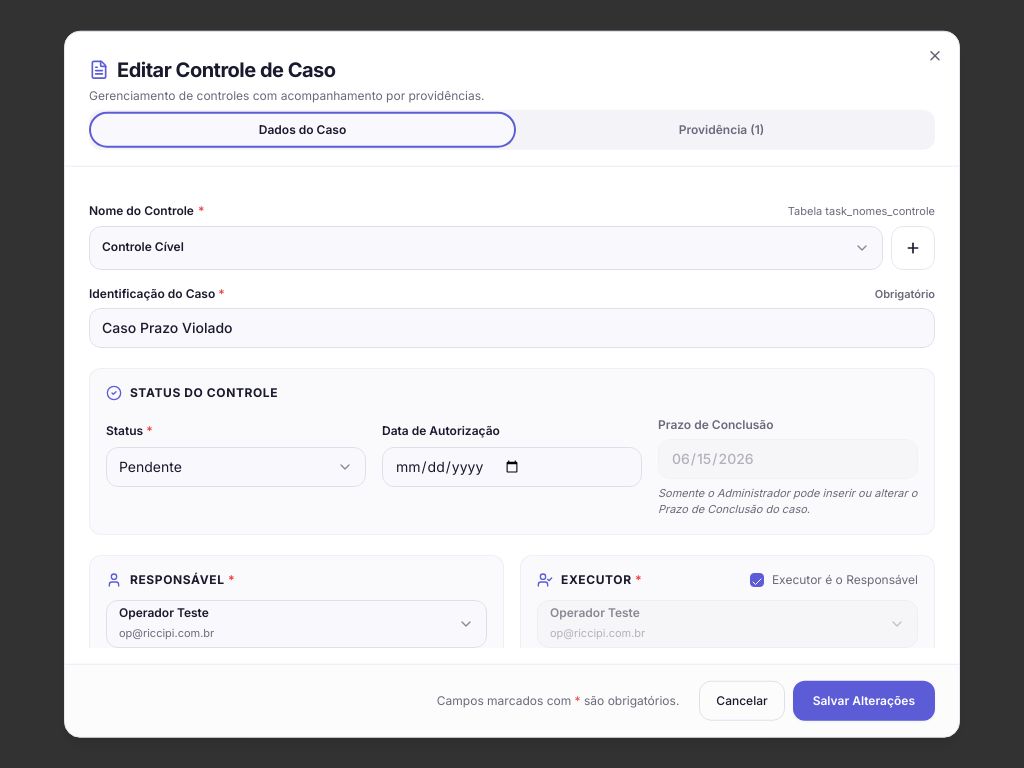
Test: ControleModal - Fluxo de Solicitação de Adiamento › interrompe salvamento e exibe texto exato quando providência tem data maior que o caso salvo
expect the field showing "Caso Prazo Violado" is shown: met, box [89,307,935,347]
Press the mouse on the tab "Providência (1)" at point(722, 130), box [512,116,931,144]
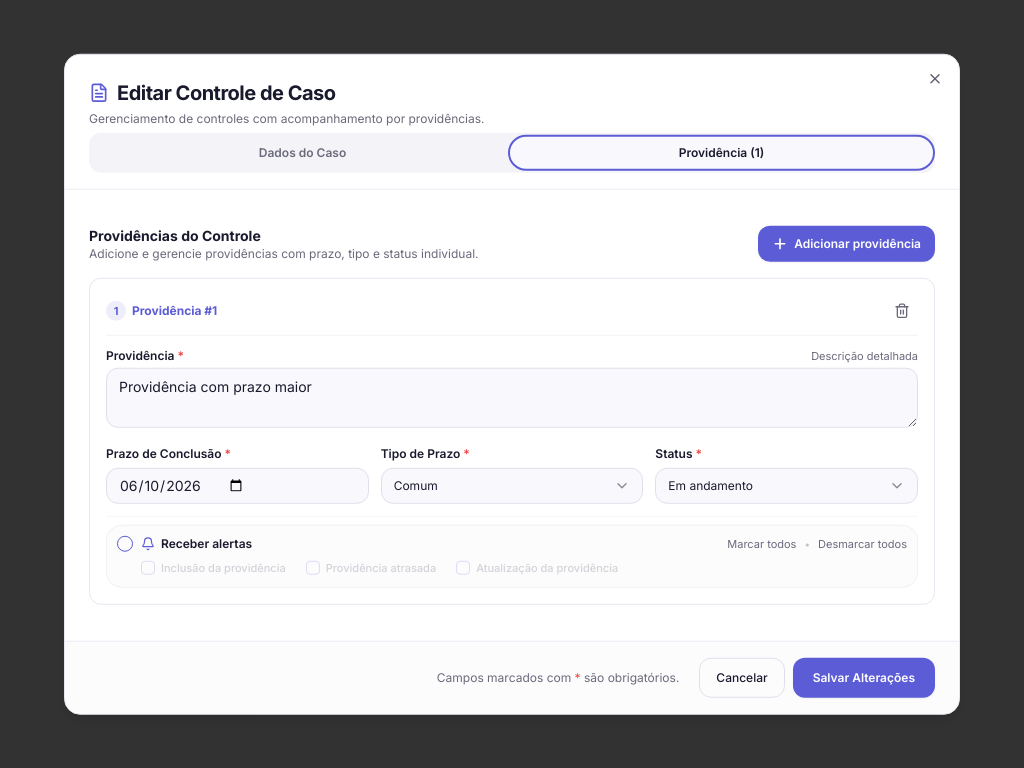
expect the date field is shown: met
Type "2026-06-20" into the date field at point(237, 486), box [106,468,369,504]
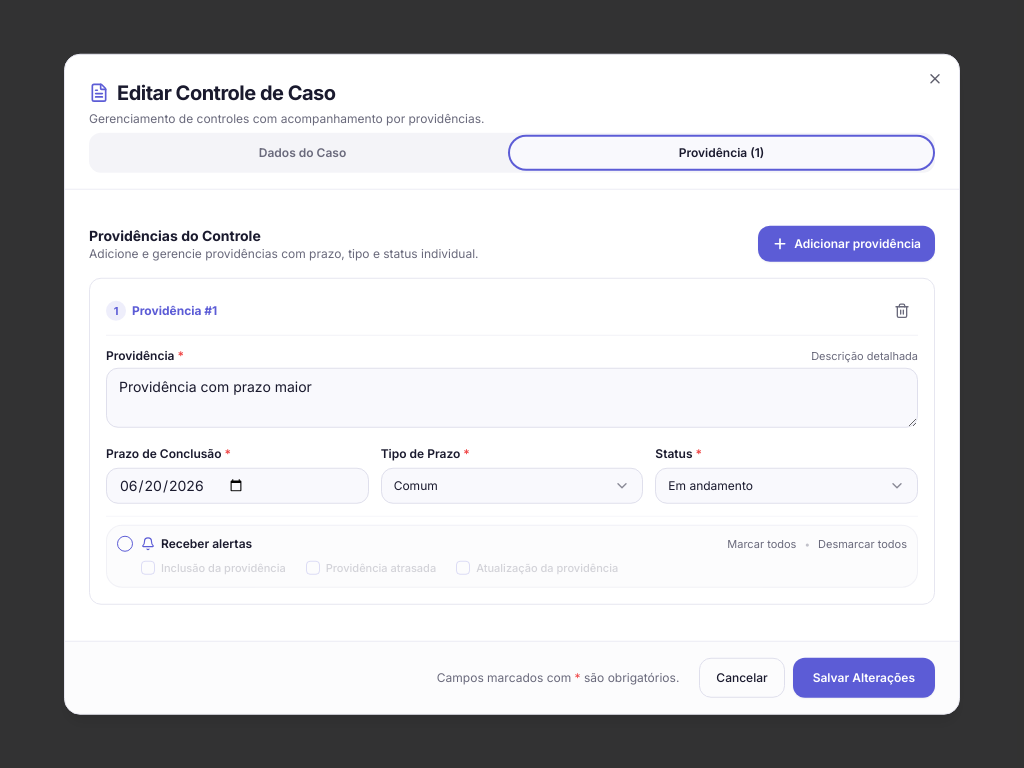
Press the mouse on the tab "Dados do Caso" at point(302, 153), box [93,139,512,167]
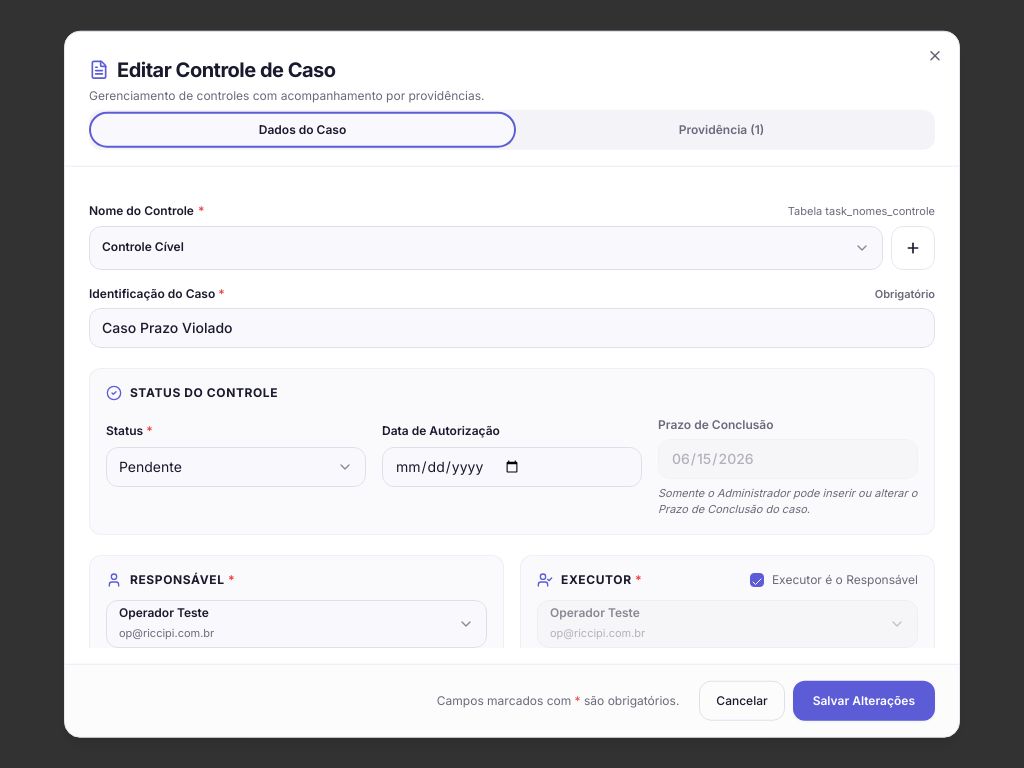
Click the button "Salvar Alterações" at point(864, 700), box [793,680,935,720]
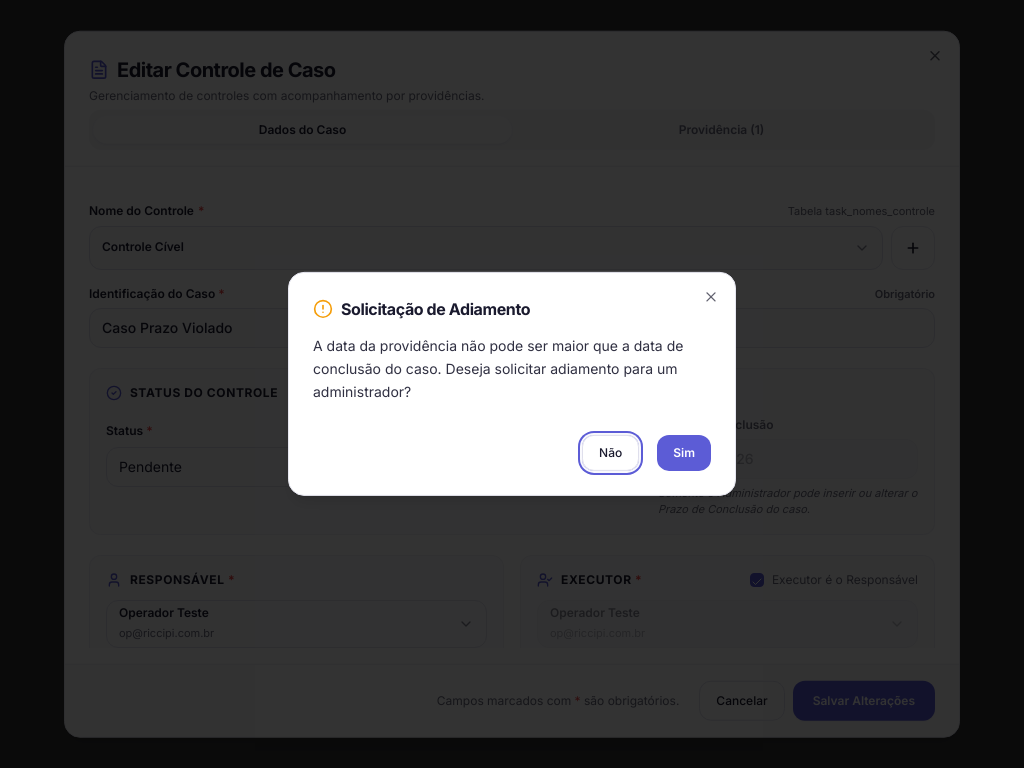
expect the text "A data da providência não pode ser maior que a data de conclusão do caso. Deseja solicitar adiamento para um administrad" is shown: met, box [313,337,683,399]
expect the button "Sim" is shown: met, box [657,435,711,471]
expect the button "Não" is shown: met, box [582,435,639,471]
